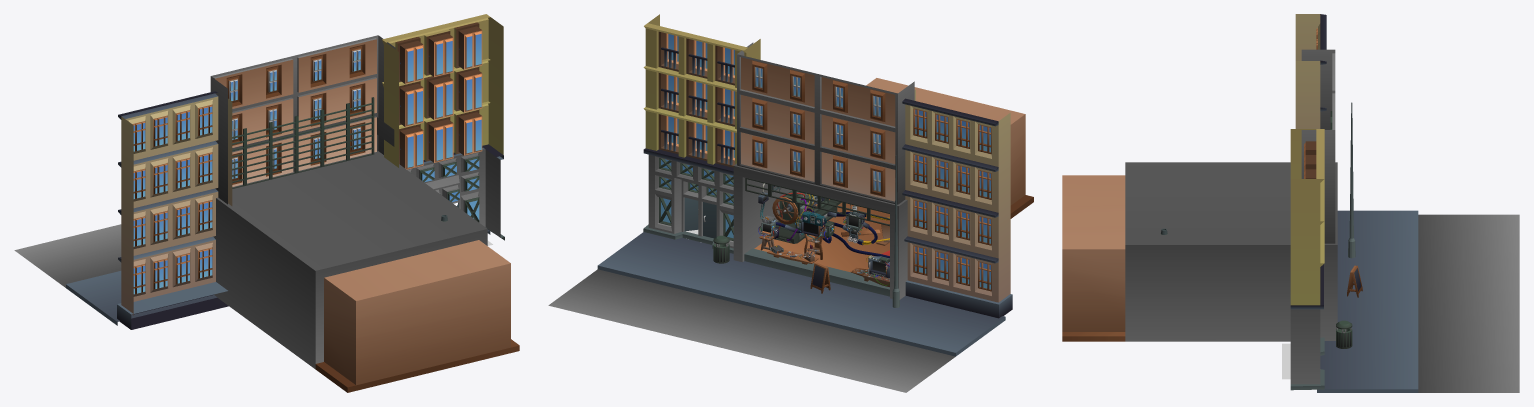
The model's file is Store.fbx.
3 views of the same model, side by side, from view 1: azimuth 30°, elevation 25°; view 2: azimuth 150°, elevation 25°; view 3: azimuth 270°, elevation 25° (orthographic). The views are drawn at different scales.
Visible parts, largest first — view 1: Shop, Building Back, Building 2, Building 1, Building 3, Street, Building 3 Slab, Grate, Building 2 Slab; view 2: Street, Building 2, Building 1, Building 3, Shop, Building 3 Slab, Building Back, Building 2 Slab, Shop Slab, Pump, Grate, Main Cables (+4 smaller); view 3: Street, Shop, Building Back, Building 3, Building 1, Building 2, Building 3 Slab, Lamp Post, Trash Can.
Part boxes in pixels (x1,y1,x2,y2): Shop: [213, 151, 519, 392]; Building Back: [324, 240, 510, 385]; Building 2: [118, 91, 232, 315]; Building 1: [210, 35, 395, 204]; Building 3: [382, 14, 503, 169]; Street: [14, 224, 490, 325]; Building 3 Slab: [407, 144, 504, 240]; Grate: [232, 97, 374, 188]; Building 2 Slab: [117, 282, 228, 329]; Street: [548, 232, 1005, 392]; Building 2: [902, 90, 1010, 302]; Building 1: [737, 42, 914, 204]; Building 3: [643, 14, 760, 167]; Shop: [733, 163, 1033, 299]; Building 3 Slab: [643, 148, 733, 253]; Building Back: [866, 78, 1025, 205]; Building 2 Slab: [905, 280, 1012, 318]; Shop Slab: [744, 248, 889, 296]; Pump: [773, 190, 841, 243]; Grate: [745, 178, 889, 226]; Main Cables: [775, 211, 889, 258]; Street: [1317, 210, 1519, 392]; Shop: [1062, 162, 1337, 341]; Building Back: [1062, 175, 1125, 331]; Building 3: [1290, 129, 1324, 305]; Building 1: [1301, 49, 1335, 243]; Building 2: [1295, 14, 1326, 128]; Building 3 Slab: [1290, 264, 1324, 390]; Lamp Post: [1348, 102, 1355, 258]; Trash Can: [1336, 320, 1352, 348].
Size of the model in its own units: 5019 by 2795 by 5415.
